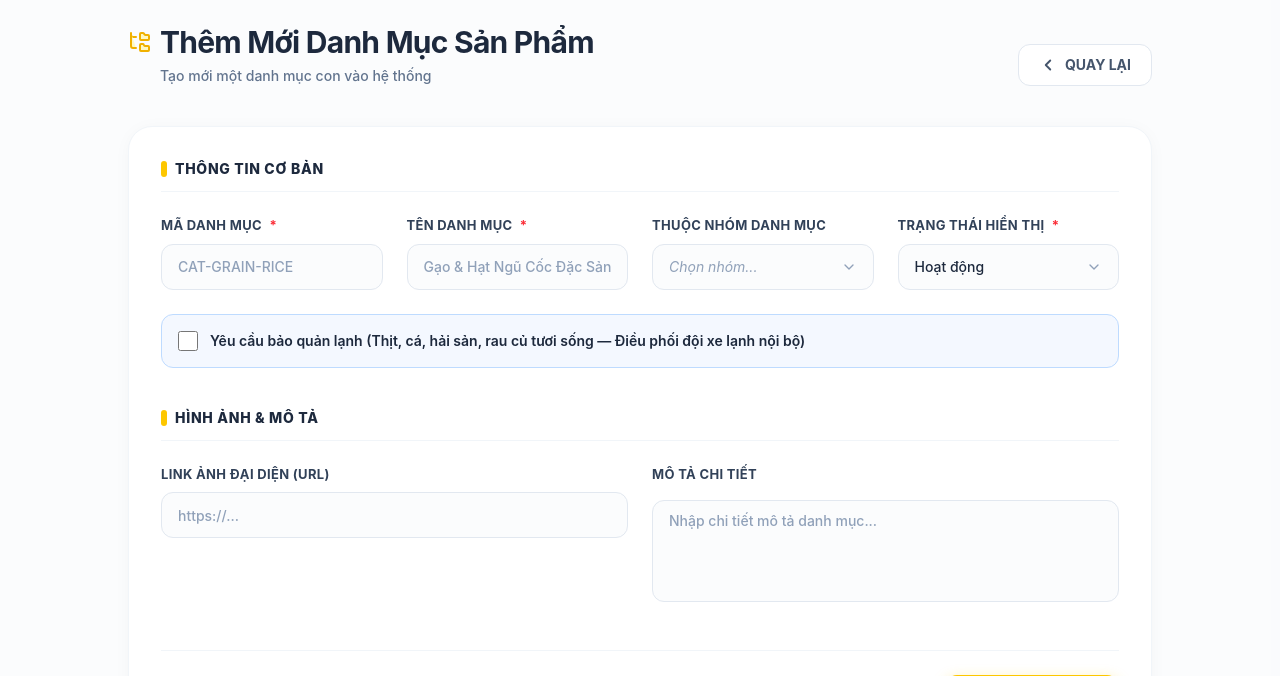
Test case: Module 04 - ProductCategoryForm Component › TC03 - Báo lỗi trùng lặp mã danh mục ngay trên giao diện
Check: the heading "Thêm Mới Danh Mục Sản Phẩm" is shown, box left=160, top=24, right=594, bottom=60
Type "veg_organic" into the field with placeholder "CAT-GRAIN-RICE" at (272, 266), box left=161, top=244, right=382, bottom=290
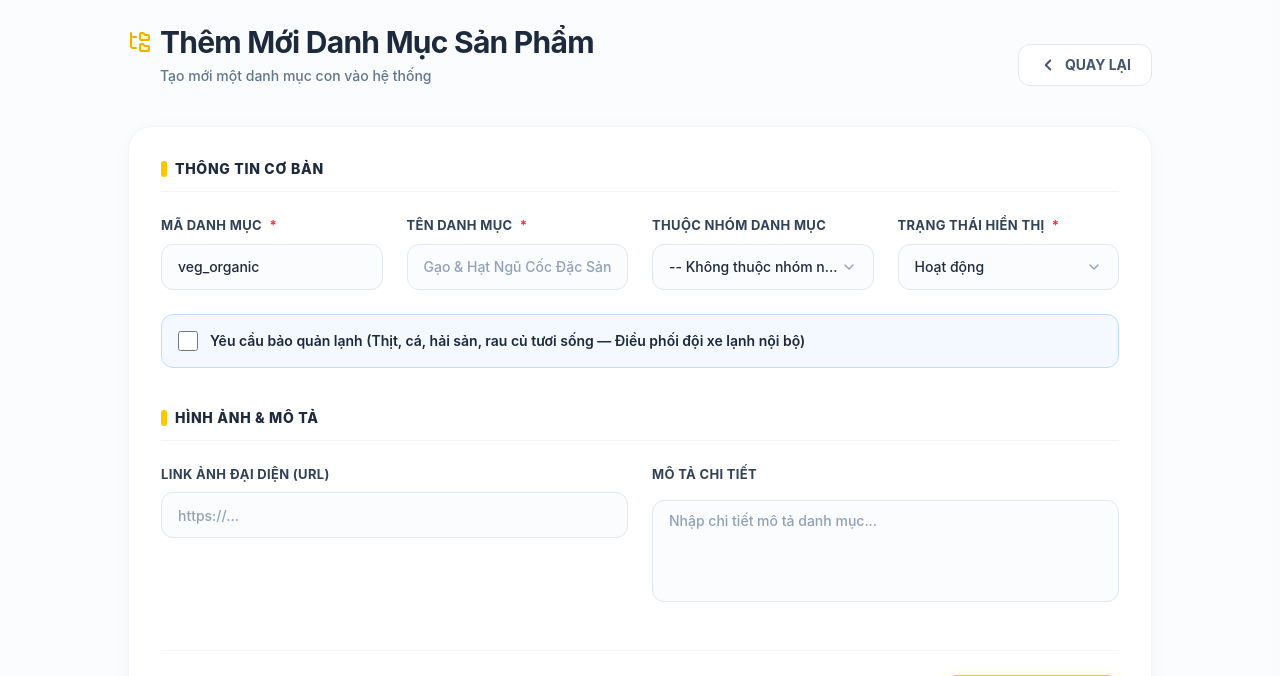
Type "Rau cải sạch" into the field with placeholder "Gạo & Hạt Ngũ Cốc Đặc Sản" at (517, 266), box left=406, top=244, right=628, bottom=290
(page scrolled)
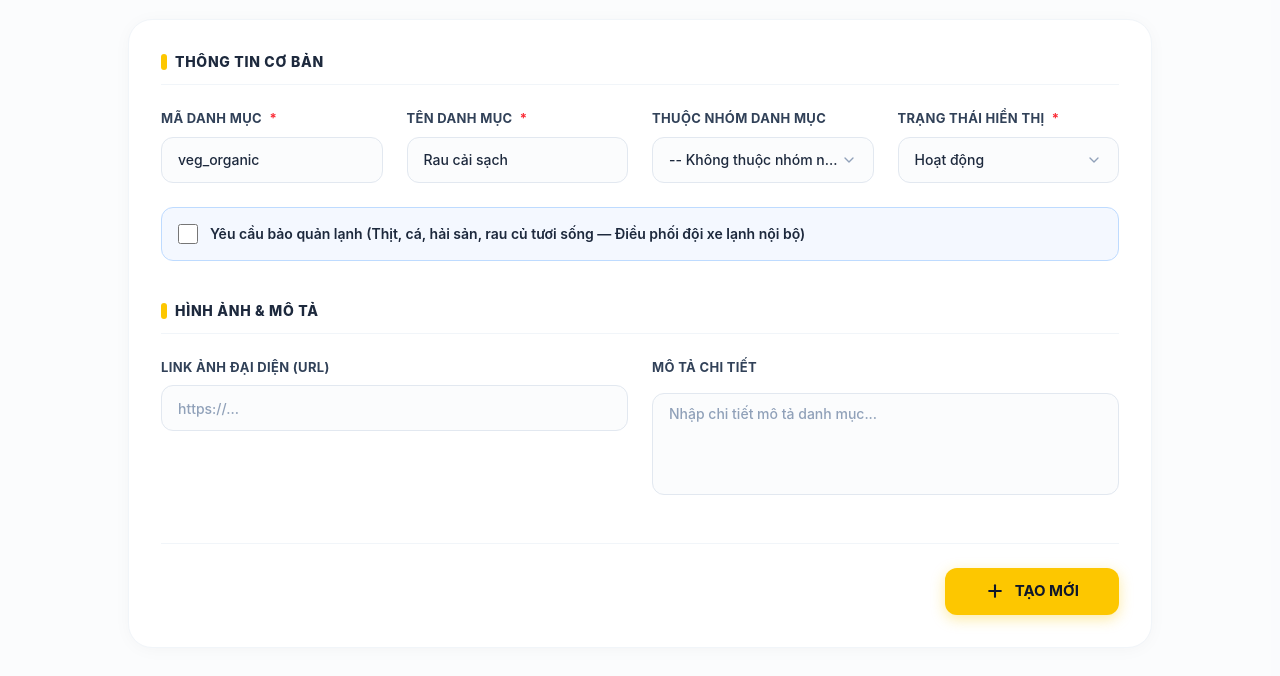
Click the button "TẠO MỚI" at (1032, 591), box left=945, top=568, right=1119, bottom=614
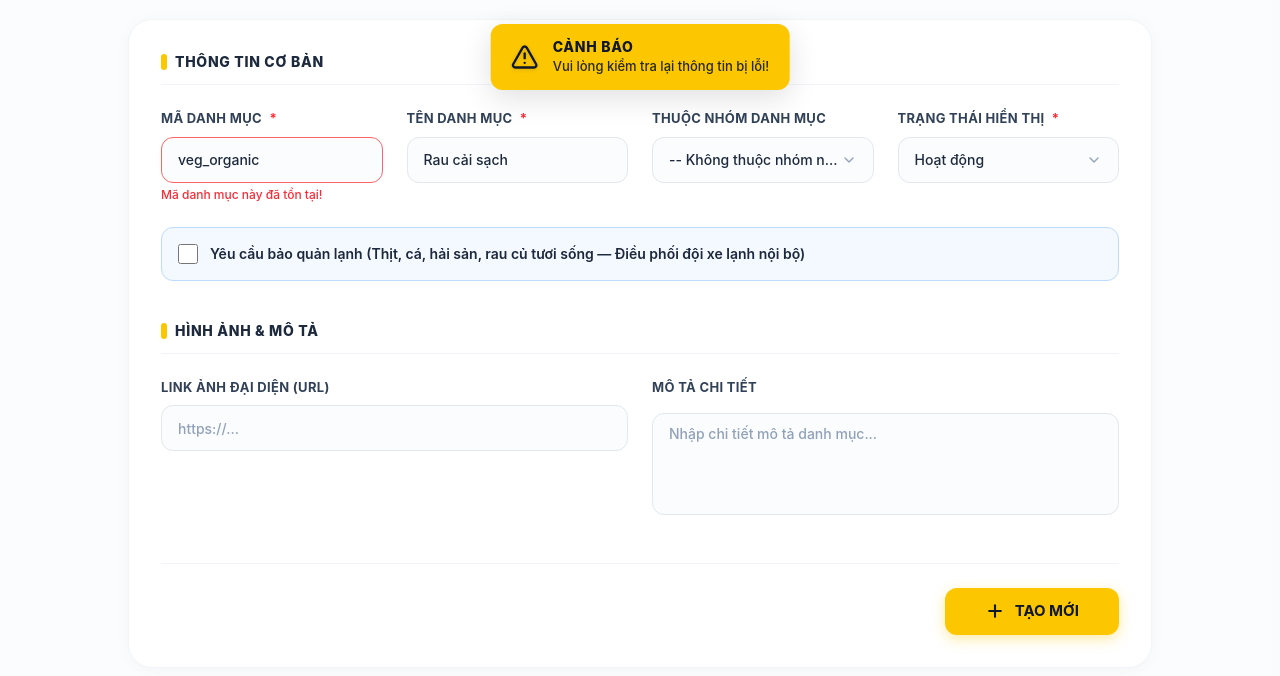
Check: the text "Mã danh mục này đã tồn tại!" is shown, box left=161, top=186, right=322, bottom=202
